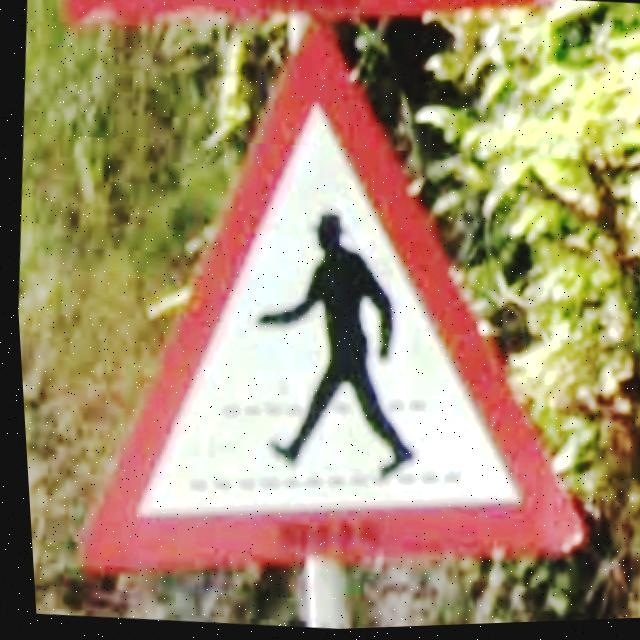pedestriancross: (74, 30, 574, 571)
